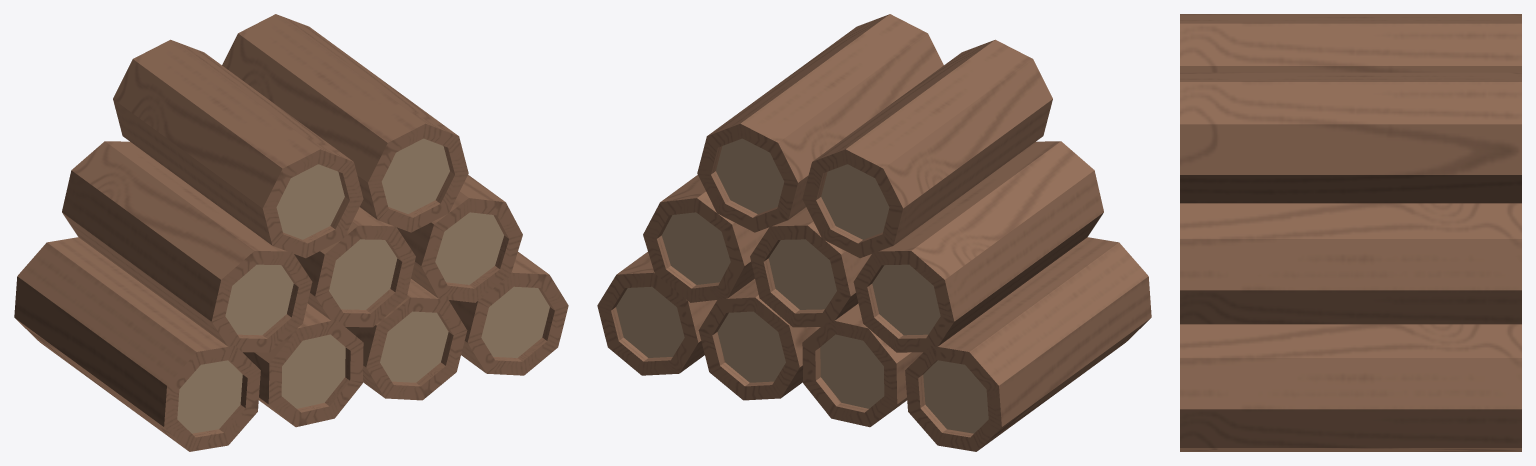
Rendered from Log_pile_noct.fbx.
3 renders of one model, left to right at view 1: azimuth 30°, elevation 25°; view 2: azimuth 150°, elevation 25°; view 3: azimuth 270°, elevation 25°, orthographic. The views are drawn at different scales.
Visible parts, largest first — view 1: Log_pile_noct; view 2: Log_pile_noct; view 3: Log_pile_noct.
Boxes of the visible parts, x1,y1,x2,y2 form: Log_pile_noct: (14, 14, 568, 451); Log_pile_noct: (597, 14, 1151, 451); Log_pile_noct: (1180, 14, 1521, 451).
Size of the model in its own units: 163 by 106 by 105.
